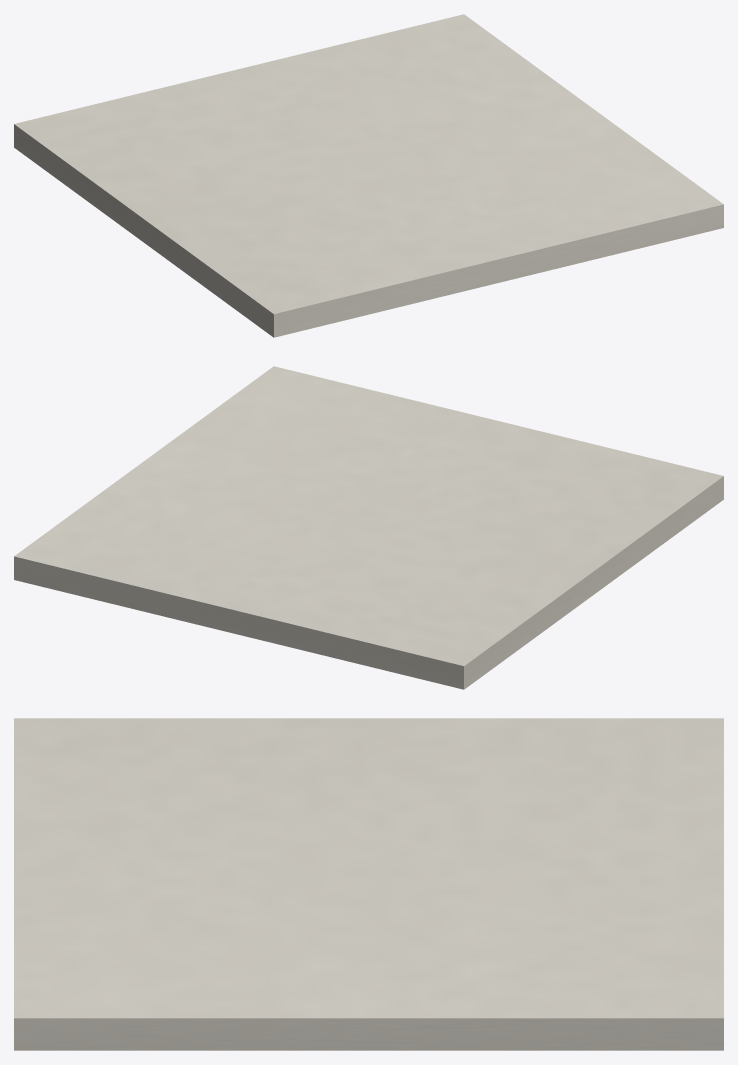
File: ceiling-panel.glb
The picture shows the model from 3 angles, top to bottom: view 1: azimuth 30°, elevation 25°; view 2: azimuth 150°, elevation 25°; view 3: azimuth 270°, elevation 25°; orthographic projection. The views are drawn at different scales.
Parts seen in each view (by area): view 1: Ceiling_Slab; view 2: Ceiling_Slab; view 3: Ceiling_Slab.
Boxes of the visible parts, x1,y1,x2,y2 form: Ceiling_Slab: (14,14,723,337); Ceiling_Slab: (14,366,723,689); Ceiling_Slab: (14,718,723,1050).
Size of the model in its own units: 4 by 0.285 by 4.
Materials: 3 (1 with a texture image).
